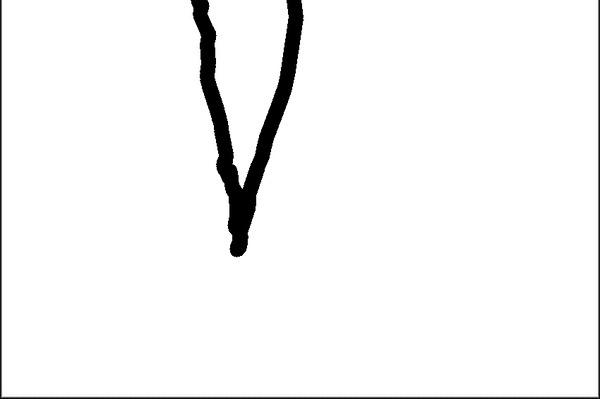V: (180, 1, 319, 260)
